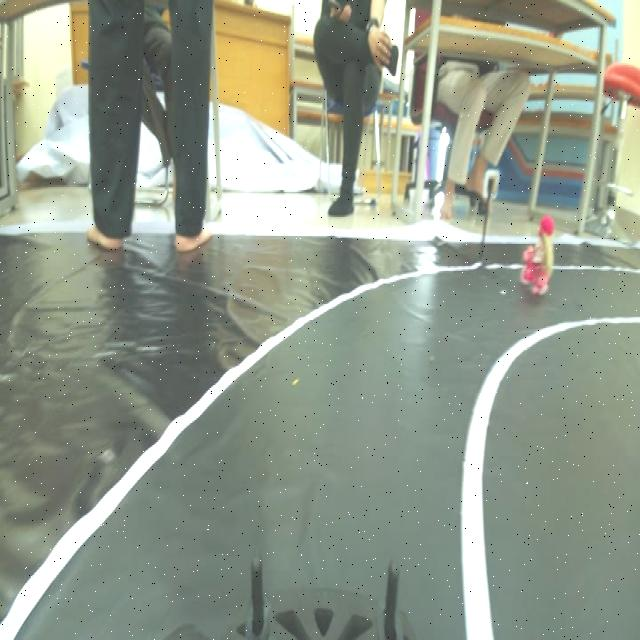pedestrian: (525, 195, 555, 310)
